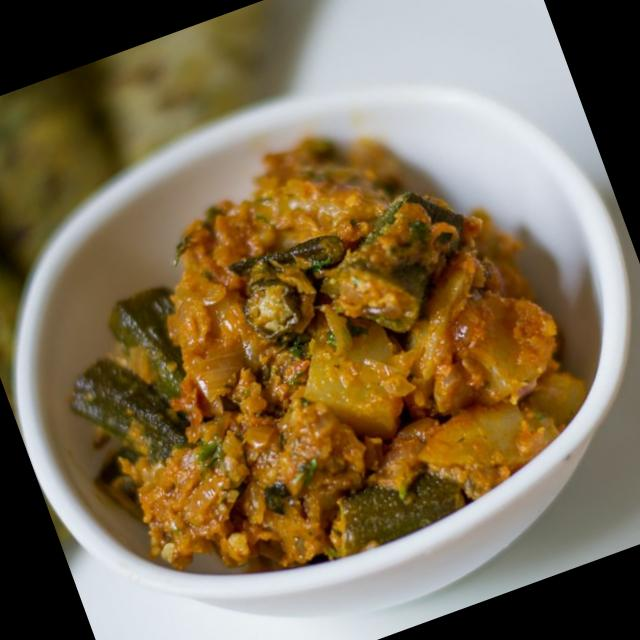BhindiMasala: (9, 77, 612, 632)
